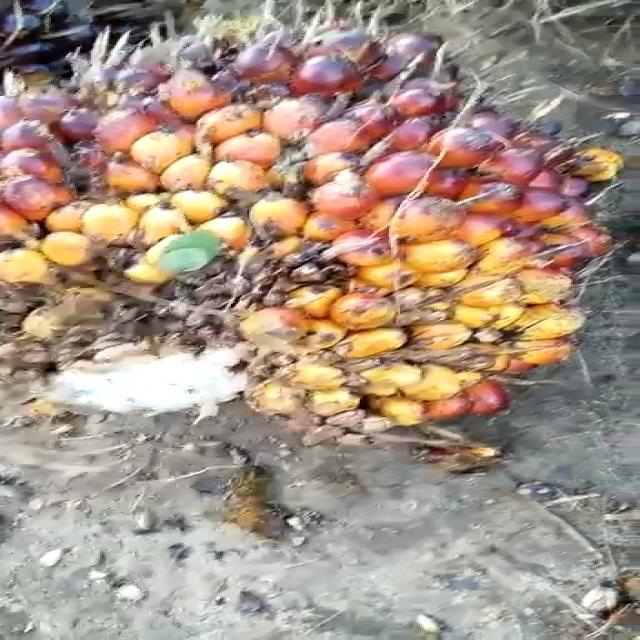palm oil: (0, 11, 640, 447)
